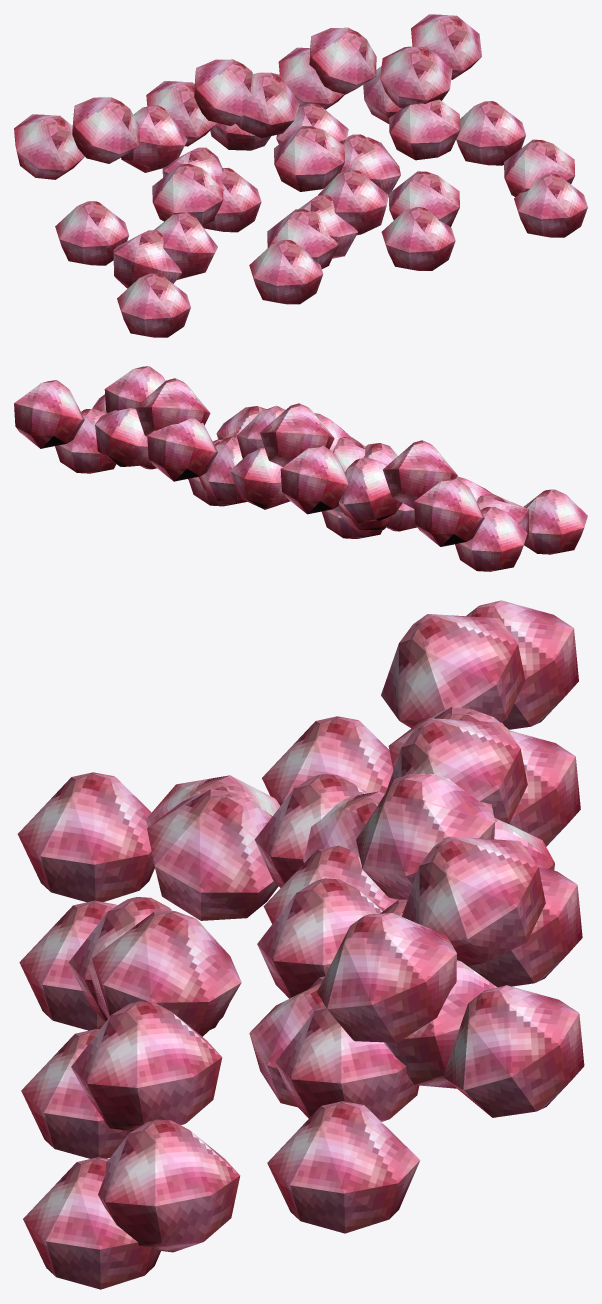
Rendered from Fruta4.fbx.
3 views of the same model, one above another, from view 1: azimuth 30°, elevation 25°; view 2: azimuth 150°, elevation 25°; view 3: azimuth 270°, elevation 25° (orthographic). The views are drawn at different scales.
Parts seen in each view (by area): view 1: Cube.003; view 2: Cube.003; view 3: Cube.003.
Part boxes in pixels (bbox=[...]): Cube.003: bbox=[14, 14, 587, 337]; Cube.003: bbox=[14, 366, 587, 571]; Cube.003: bbox=[17, 600, 584, 1289].
Bounding box in the file's own units: 62.05 × 21.55 × 32.36.
Materials: 1 (1 with a texture image).
